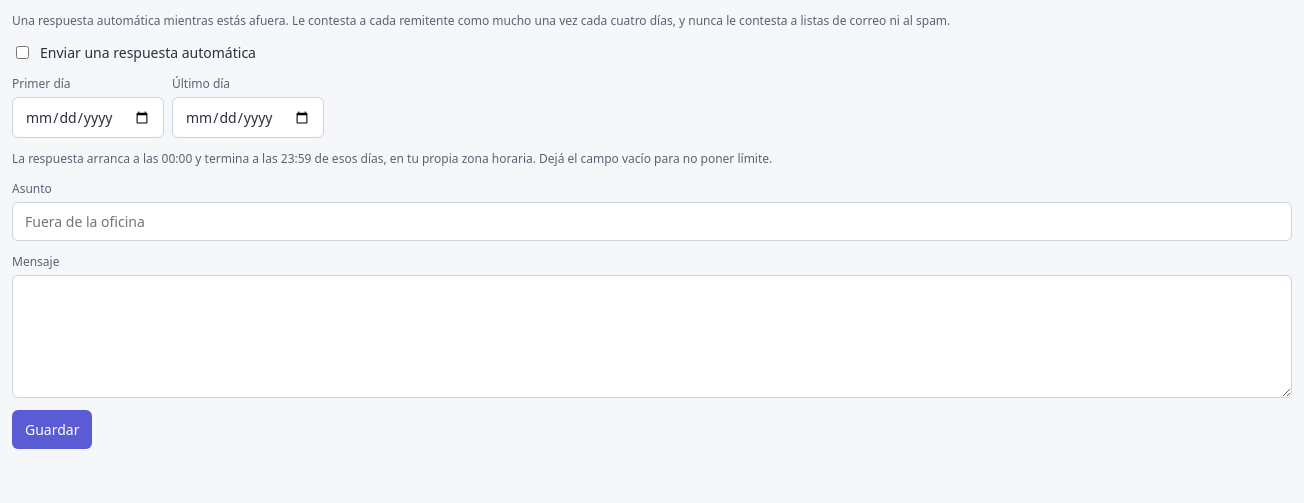
Test: validation, before the round trip › refuses an end before the start
In the date field labelled "Primer día": (88, 118) [12,97,164,138], type "2026-09-10"
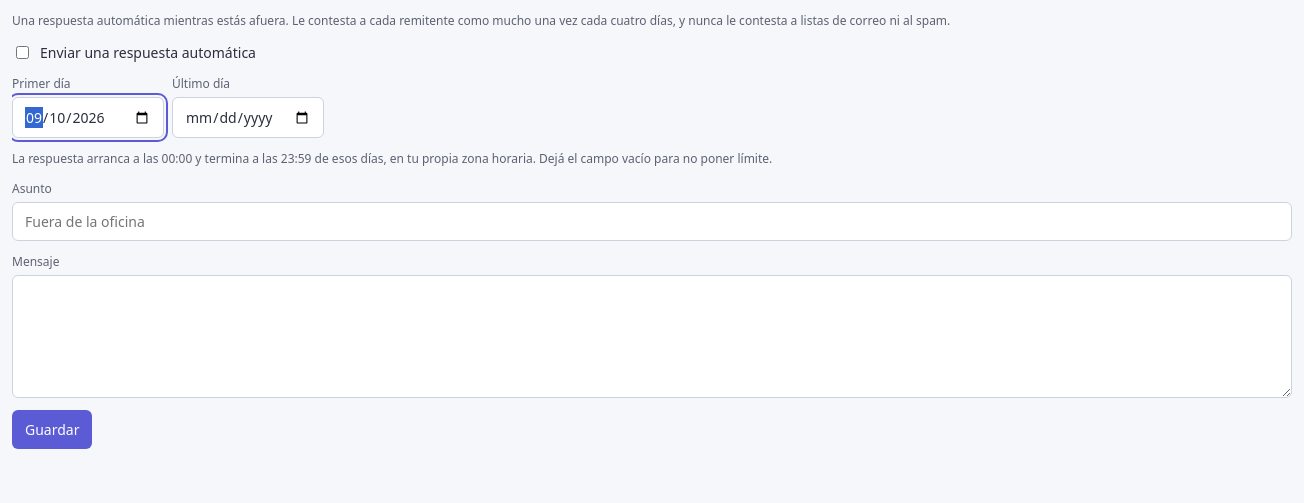
In the date field labelled "Último día": (248, 118) [172,97,324,138], type "2026-09-01"
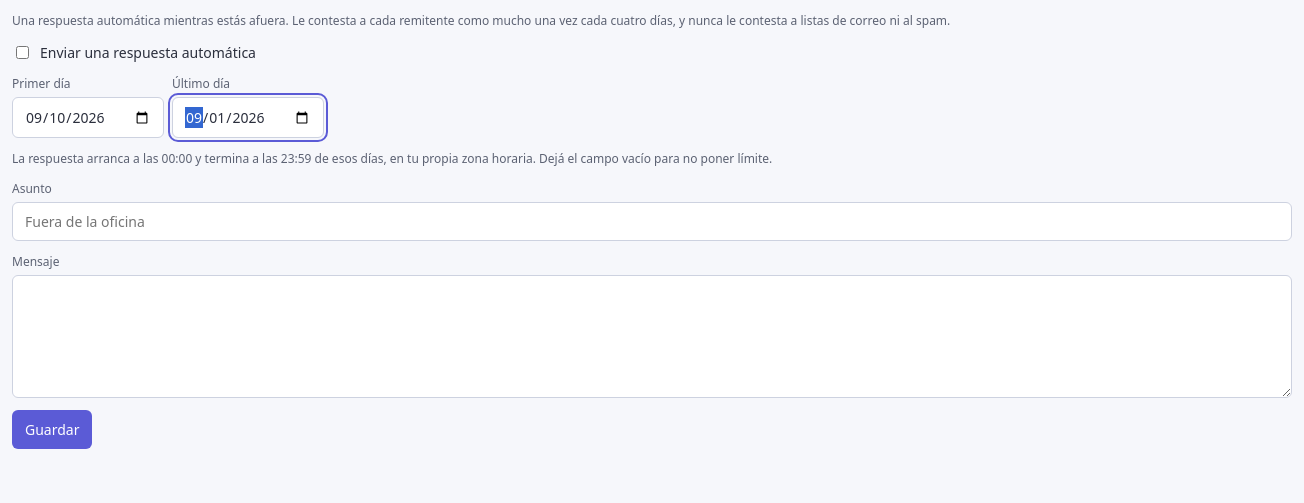
In the field labelled "Asunto": (652, 222) [12,202,1292,241], type "Fuera"
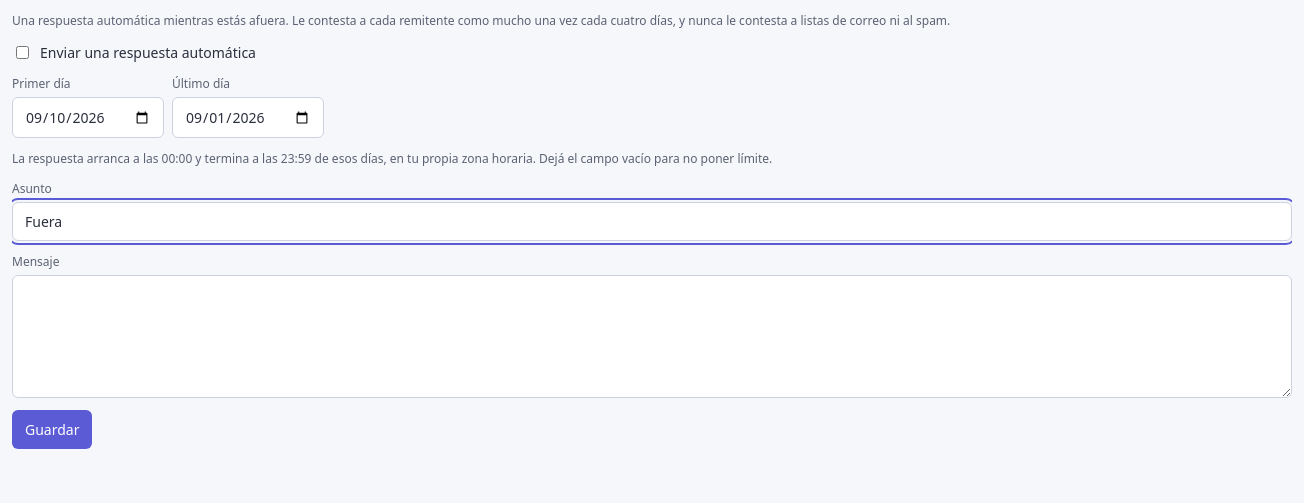
Click the button "Guardar": (52, 430) [12,410,92,449]
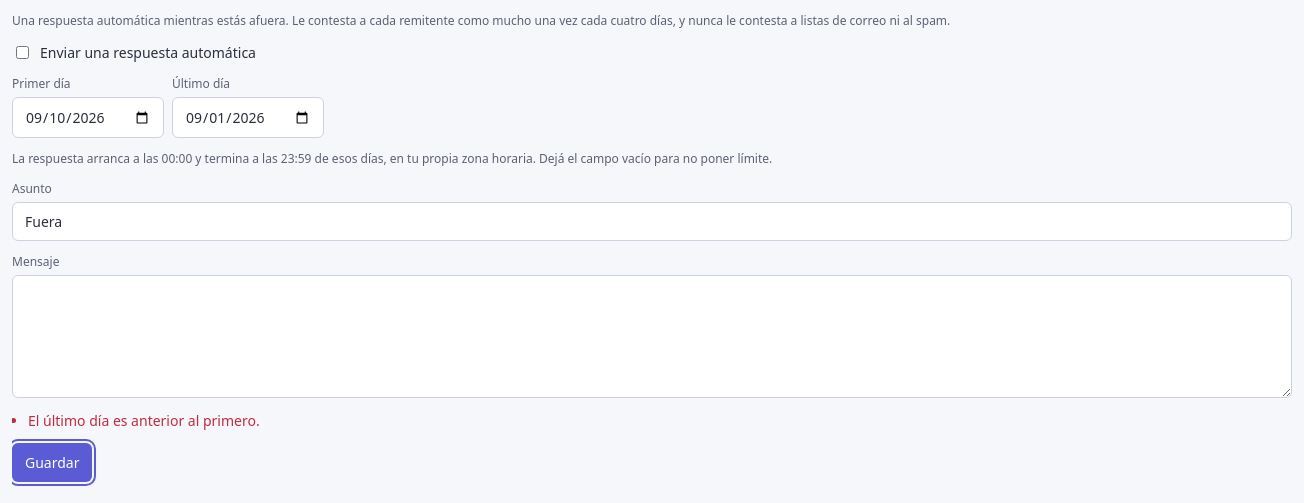
Expected: the message shows "anterior al primero", [28,411,260,430]
